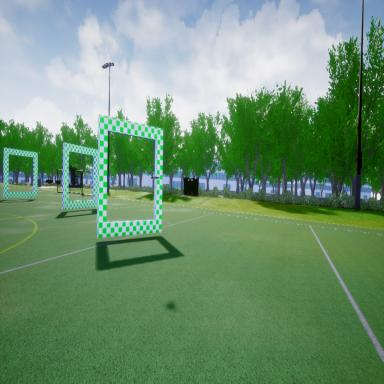gate: (97, 109, 166, 248), (62, 136, 98, 215), (2, 144, 40, 201)
